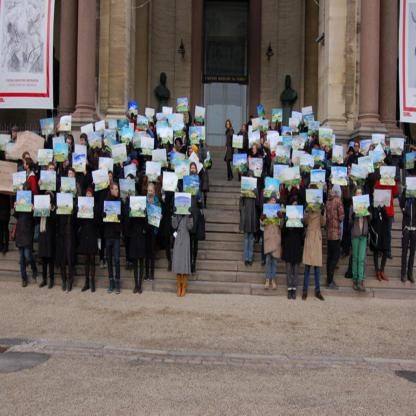face: (113, 185, 119, 197), (356, 190, 363, 200), (63, 158, 69, 168), (149, 186, 154, 198), (67, 139, 72, 150), (87, 192, 92, 203), (26, 155, 31, 165), (50, 167, 56, 175), (191, 166, 197, 174), (81, 138, 86, 147), (190, 149, 195, 158), (272, 198, 277, 207), (248, 155, 252, 166), (12, 130, 17, 138), (69, 171, 74, 179), (109, 174, 113, 184), (249, 175, 254, 183), (24, 162, 28, 171), (298, 176, 302, 185), (355, 143, 359, 152), (253, 146, 257, 154), (265, 141, 269, 149), (264, 190, 268, 198), (326, 144, 330, 152), (296, 183, 300, 190), (261, 137, 264, 145), (349, 167, 352, 175), (289, 185, 292, 192), (150, 124, 153, 130), (183, 116, 186, 122), (198, 121, 201, 127), (228, 122, 231, 128), (243, 126, 246, 132), (269, 122, 272, 128), (371, 147, 374, 153), (177, 140, 180, 145), (280, 123, 283, 128), (350, 151, 353, 156)
